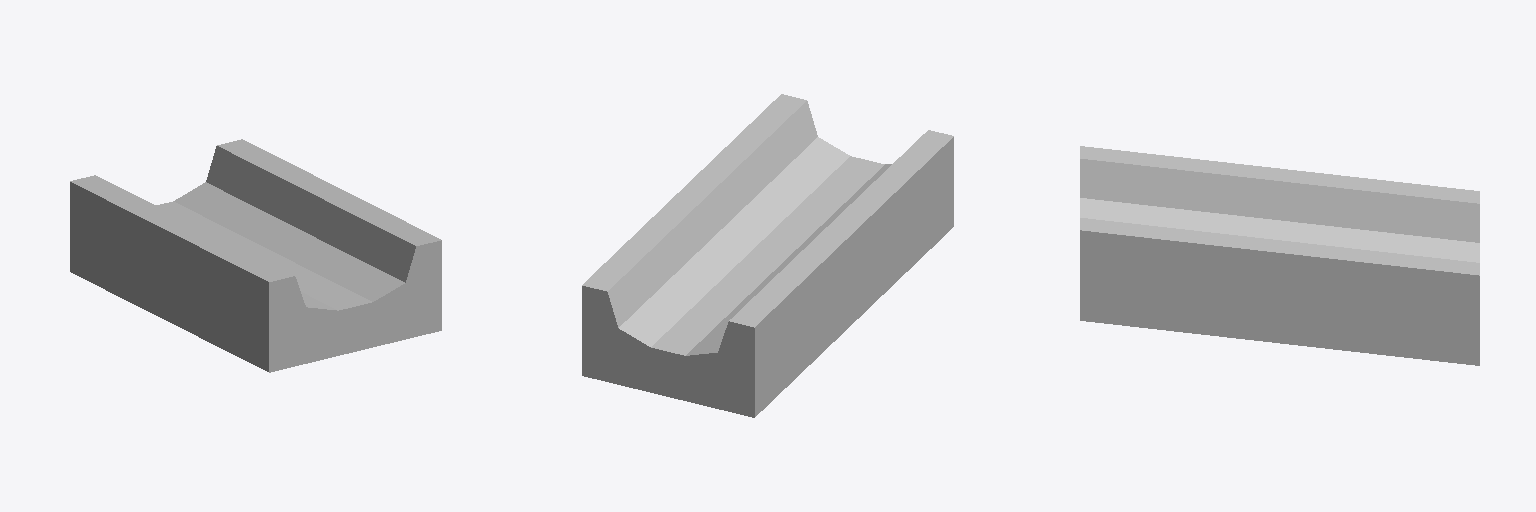
The model's file is slant-long-a.obj.
3 views of the same model, side by side, from view 1: azimuth 30°, elevation 25°; view 2: azimuth 150°, elevation 25°; view 3: azimuth 270°, elevation 25° (orthographic).
Parts seen in each view (by area): view 1: slant-long-a; view 2: slant-long-a; view 3: slant-long-a.
Boxes of the visible parts, <box> form: slant-long-a: <box>70,139,441,372</box>; slant-long-a: <box>582,94,953,417</box>; slant-long-a: <box>1080,146,1479,365</box>.
Size of the model in its own units: 1 by 0.75 by 2.